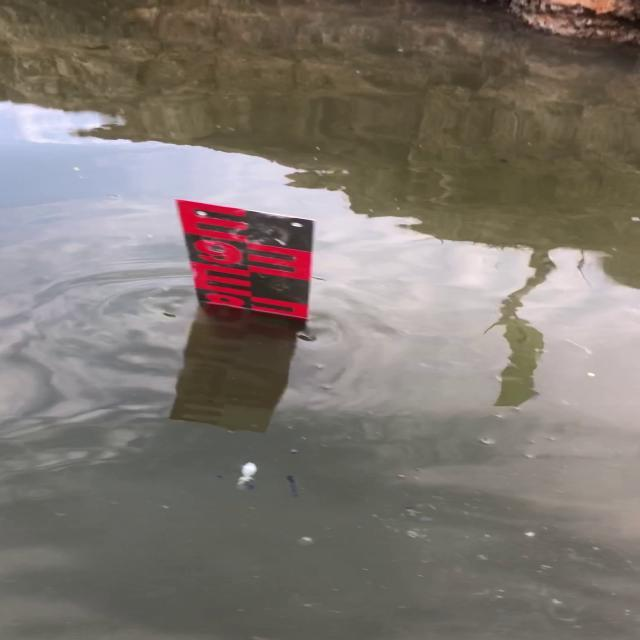ruler: (169, 194, 319, 328)
value: (184, 230, 248, 275)
